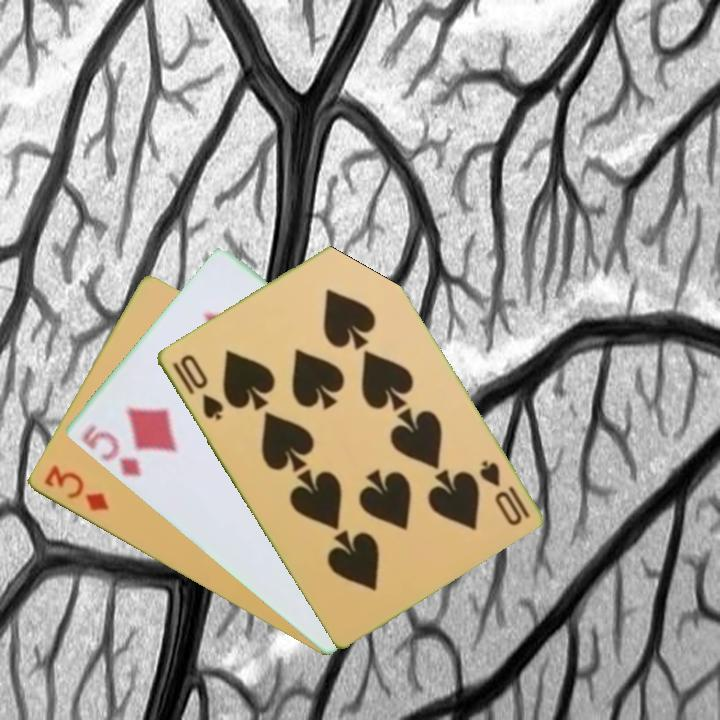10s: (168, 350, 226, 423), (475, 456, 533, 529)
3d: (40, 461, 112, 515)
5d: (77, 421, 143, 480)
